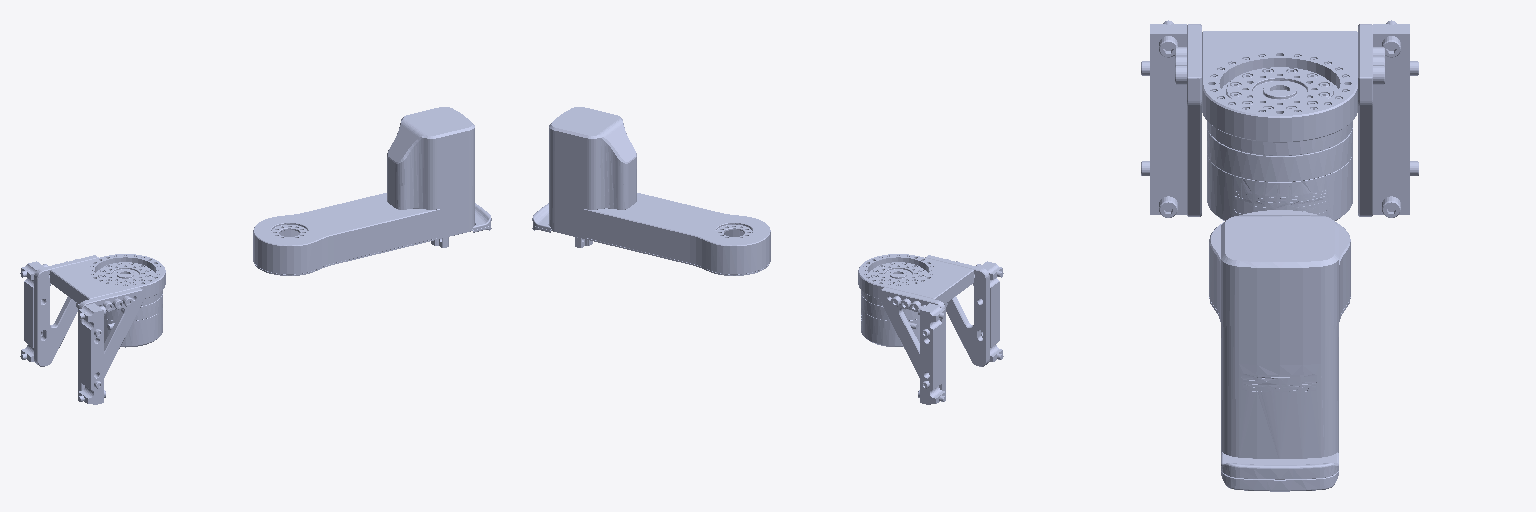
The robot description file, URDF, robot "scara_v2_without_gripper":
<robot  name="scara_v2_without_gripper">



  <link name="baseBox">
    <inertial>
        <origin
          xyz="0 0 0"
          rpy="0 0 0" />
        <mass
          value="1" />
        <inertia
          ixx="1"
          ixy="0"
          ixz="0"
          iyy="1"
          iyz="0"
          izz="1" />
    </inertial>
    <visual>
        <origin
          xyz="0 0 0"
          rpy="0 0 0" />
        <geometry>
          <mesh
            filename="package://scara_v2_without_gripper/meshes/baseBox.STL" />
        </geometry>
        <material
          name="">
          <color
            rgba="0.792156862745098 0.819607843137255 0.933333333333333 1" />
        </material>
    </visual>
    <collision>
        <origin
          xyz="0 0 0"
          rpy="0 0 0" />
        <geometry>
          <mesh
            filename="package://scara_v2_without_gripper/meshes/baseBox.STL" />
        </geometry>
    </collision>
  </link>

  <link
    name="ScaraBase">
    <inertial>
        <origin
          xyz="0 0 0"
          rpy="0 0 0" />
        <mass
          value="1" />
        <inertia
          ixx="1"
          ixy="0"
          ixz="0"
          iyy="1"
          iyz="0"
          izz="1" />
    </inertial>
    <visual>
        <origin
          xyz="0 0 0"
          rpy="0 0 0" />
        <geometry>
          <mesh
            filename="package://scara_v2_without_gripper/meshes/ScaraBase.STL" />
        </geometry>
        <material
          name="">
          <color
            rgba="0.792156862745098 0.819607843137255 0.933333333333333 1" />
        </material>
    </visual>
    <collision>
        <origin
          xyz="0 0 0"
          rpy="0 0 0" />
        <geometry>
          <mesh
            filename="package://scara_v2_without_gripper/meshes/ScaraBase.STL" />
        </geometry>
    </collision>
  </link>
  <joint name="Joint_Base" type="fixed">
    <parent link="baseBox" />
    <child link="ScaraBase" />
    <origin
      xyz="0.212 0.58 0.141" rpy="1.5708 0 0" />
    <axis
      xyz="1 0 0" />
  </joint>





  <link
    name="Link1">
    <inertial>
        <origin
          xyz="0 0 0"
          rpy="0 0 0" />
        <mass
          value="1" />
        <inertia
          ixx="1"
          ixy="0"
          ixz="0"
          iyy="1"
          iyz="0"
          izz="1" />
    </inertial>
    <visual>
        <origin
          xyz="0 0 0"
          rpy="0 0 0" />
        <geometry>
          <mesh
            filename="package://scara_v2_without_gripper/meshes/Link1.STL" />
        </geometry>
        <material
          name="">
          <color
            rgba="0.792156862745098 0.819607843137255 0.933333333333333 1" />
        </material>
    </visual>
    <collision>
        <origin
          xyz="0 0 0"
          rpy="0 0 0" />
        <geometry>
          <mesh
            filename="package://scara_v2_without_gripper/meshes/Link1.STL" />
        </geometry>
    </collision>
  </link>
  <joint name="Joint1" type="continuous">
    <parent link="ScaraBase" />
    <child link="Link1" />
    <origin xyz="0 0.051 0" rpy="0 0 0" />
    <axis xyz="1 0 0" />
  </joint>




  <link name="Link2">
    <inertial>
        <origin
          xyz="0 0 0"
          rpy="0 0 0" />
        <mass
          value="1" />
        <inertia
          ixx="1"
          ixy="0"
          ixz="0"
          iyy="1"
          iyz="0"
          izz="1" />
    </inertial>
    <visual>
        <origin
          xyz="0 0 0"
          rpy="0 0 0" />
        <geometry>
          <mesh
            filename="package://scara_v2_without_gripper/meshes/Link2.STL" />
        </geometry>
        <material
          name="">
          <color
            rgba="0.792156862745098 0.819607843137255 0.933333333333333 1" />
        </material>
    </visual>
    <collision>
        <origin
          xyz="0 0 0"
          rpy="0 0 0" />
        <geometry>
          <mesh
            filename="package://scara_v2_without_gripper/meshes/Link2.STL" />
        </geometry>
    </collision>
  </link>
  <joint name="Joint2" type="continuous">
    <parent link="Link1" />
    <child link="Link2" />
    <origin xyz="0.24972 -0.081 0" rpy="3.14 -1.5708 0" />
    <axis xyz="-1 0 0" />
  </joint>
</robot>

--- What the picture shows (computed from the rendered views, not written in the file) ---
The picture shows the robot from 3 angles, left to right: view 1: azimuth 30°, elevation 25°; view 2: azimuth 150°, elevation 25°; view 3: azimuth 270°, elevation 25°; orthographic projection.
Model scara_v2_without_gripper with 4 links and 3 joints (2 continuous, 1 fixed), rooted at baseBox, posed all joints at 0.
Visible links, largest first — view 1: Link2, ScaraBase; view 2: Link2, ScaraBase; view 3: ScaraBase, Link2.
Boxes of the visible links, x1,y1,x2,y2 form: Link2: (253, 107, 491, 275); ScaraBase: (20, 254, 165, 404); Link2: (532, 107, 770, 275); ScaraBase: (858, 254, 1003, 404); ScaraBase: (1141, 20, 1418, 220); Link2: (1209, 210, 1350, 491).
Size in the robot's own frame: 0.656 by 0.188 by 0.2462 metres.
Meshes: 4 distinct files referenced, 2 mesh visuals loaded (2 binary STL); not drawn: 2 (reference not matched to a file when rendering).